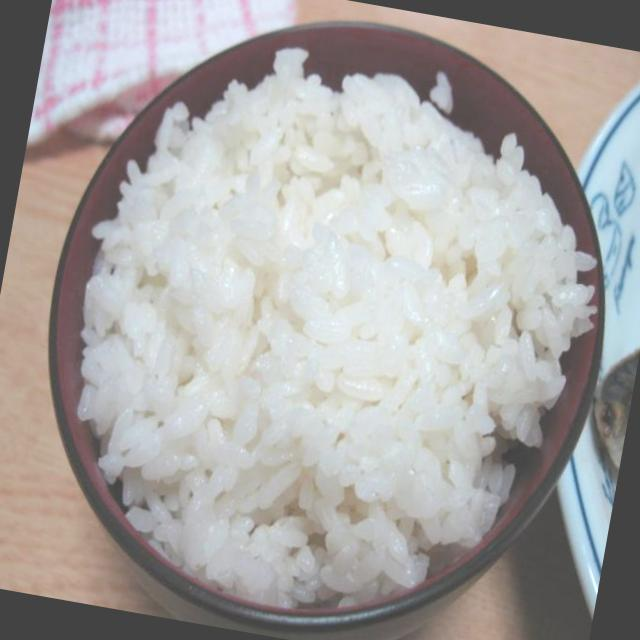Rice: (26, 19, 639, 640)
